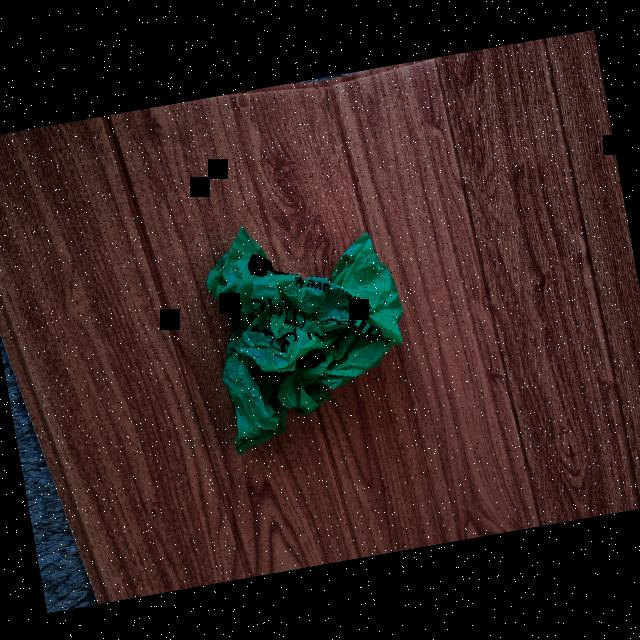plastic_bag: (194, 200, 422, 454)
